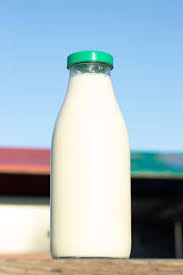milk: (49, 37, 140, 249)
